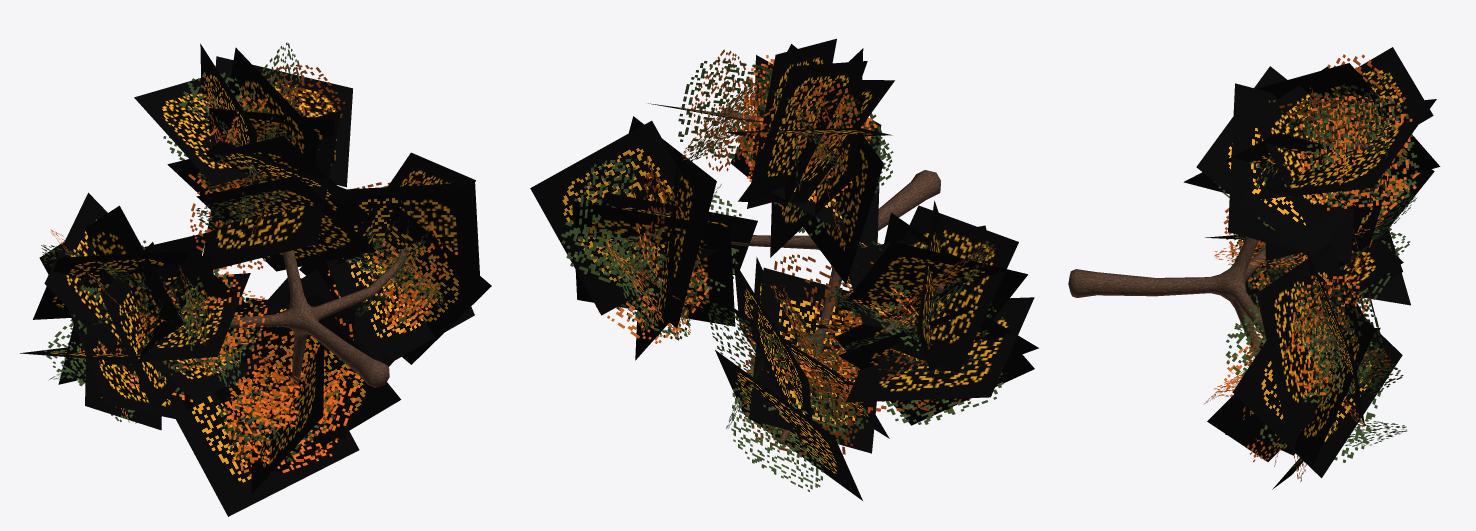
Rendered from Tree5Phase1.fbx.
3 views of the same model, side by side, from view 1: azimuth 30°, elevation 25°; view 2: azimuth 150°, elevation 25°; view 3: azimuth 270°, elevation 25° (orthographic). The views are drawn at different scales.
Parts seen in each view (by area): view 1: Tree5Phase1; view 2: Tree5Phase1; view 3: Tree5Phase1.
Boxes of the visible parts, bbox=[...] form: Tree5Phase1: bbox=[20, 42, 491, 516]; Tree5Phase1: bbox=[530, 38, 1038, 500]; Tree5Phase1: bbox=[1068, 47, 1440, 489].
Bounding box in the file's own units: 3154 × 2873 × 2259.
